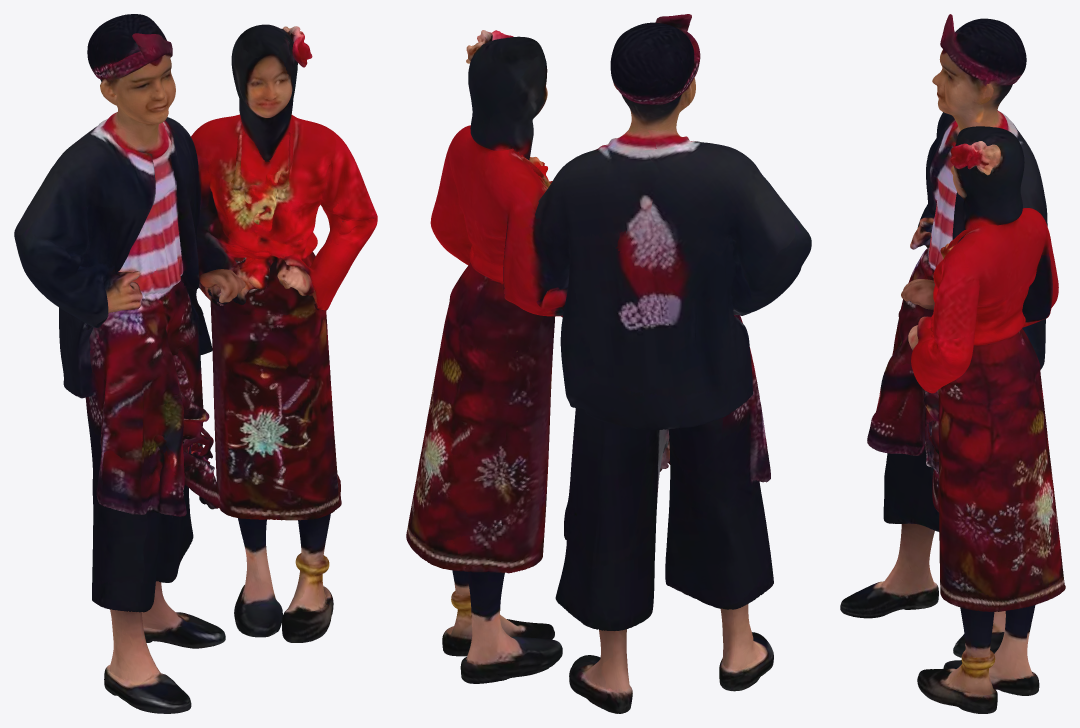
File: busana-madura.glb
3 renders of one model, left to right at view 1: azimuth 30°, elevation 25°; view 2: azimuth 150°, elevation 25°; view 3: azimuth 270°, elevation 25°, orthographic. The views are drawn at different scales.
Parts seen in each view (by area): view 1: Object_4; view 2: Object_4; view 3: Object_4.
Part boxes in pixels (<box>): Object_4: <box>14,14,377,713</box>; Object_4: <box>406,14,811,713</box>; Object_4: <box>840,14,1065,713</box>.
Size of the model in its own units: 0.5776 by 1 by 0.3391.
Materials: 1 (1 with a texture image).
